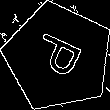P_SE: (27, 30, 90, 84)
